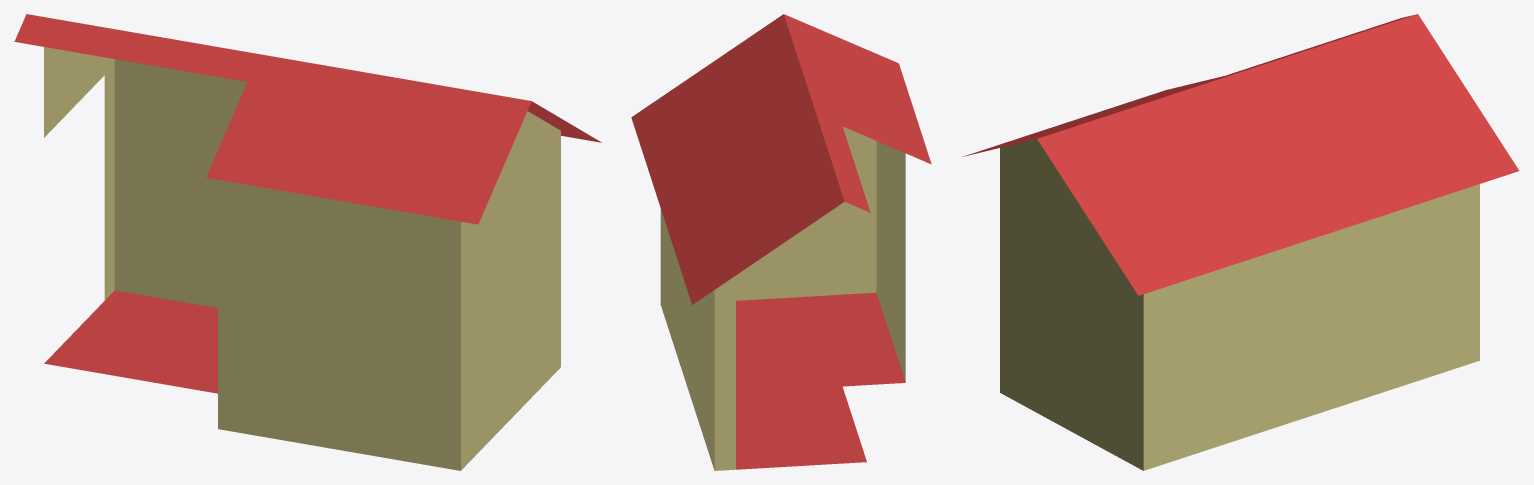
3 views of the same model, side by side, from view 1: azimuth 30°, elevation 25°; view 2: azimuth 150°, elevation 25°; view 3: azimuth 270°, elevation 25° (orthographic). The views are drawn at different scales.
Bounding box in the file's own units: 11.94 × 14.88 × 8.62.
